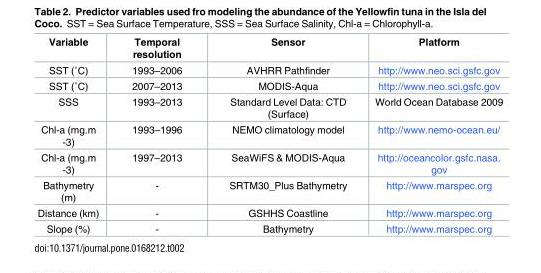table: (36, 37, 502, 233)
table column: (204, 37, 360, 233), (360, 37, 502, 233), (114, 37, 204, 233), (36, 37, 114, 233)
table column header: (36, 37, 502, 62)
table row: (36, 121, 502, 149), (36, 149, 502, 177), (36, 177, 502, 205), (36, 94, 502, 121), (36, 37, 502, 62), (36, 62, 502, 78), (36, 78, 502, 94), (36, 205, 502, 221), (36, 221, 502, 233)
